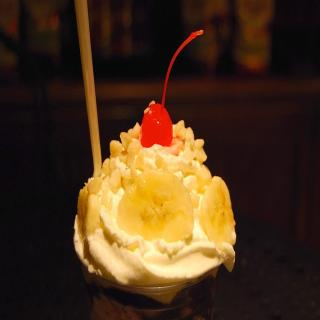Ice cream: (72, 100, 236, 306)
